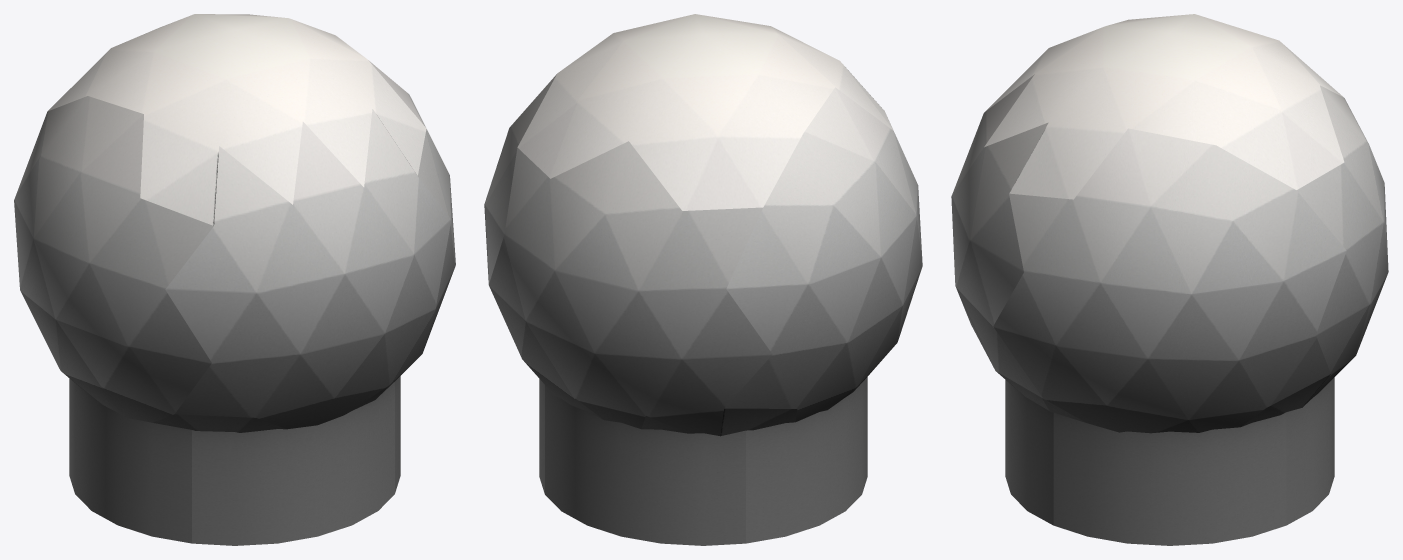
File: Radome.glb
The picture shows the model from 3 angles, left to right: view 1: azimuth 30°, elevation 25°; view 2: azimuth 150°, elevation 25°; view 3: azimuth 270°, elevation 25°; orthographic projection.
Parts seen in each view (by area): view 1: guam.layer; view 2: guam.layer; view 3: guam.layer.
Boxes of the visible parts, x1,y1,x2,y2 form: guam.layer: (14, 14, 455, 545); guam.layer: (484, 14, 922, 545); guam.layer: (951, 14, 1388, 545).
Bounding box in the file's own units: 19.66 × 22 × 19.64.
2 materials, 2 textured.
